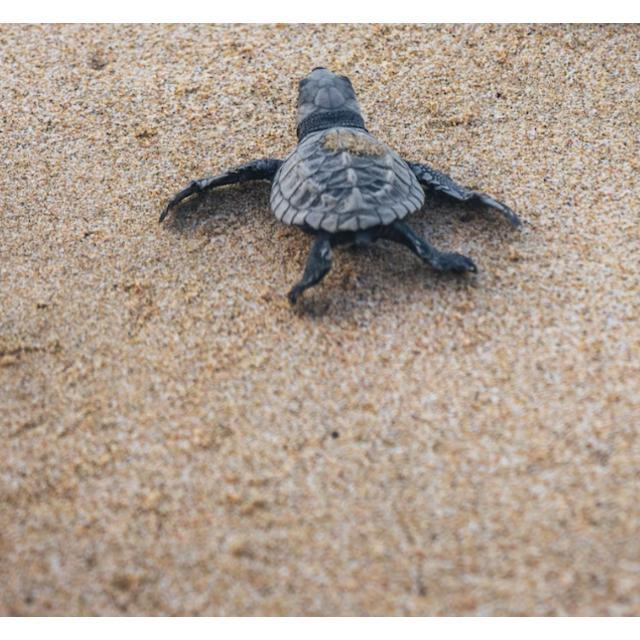turtle: (157, 65, 522, 305)
